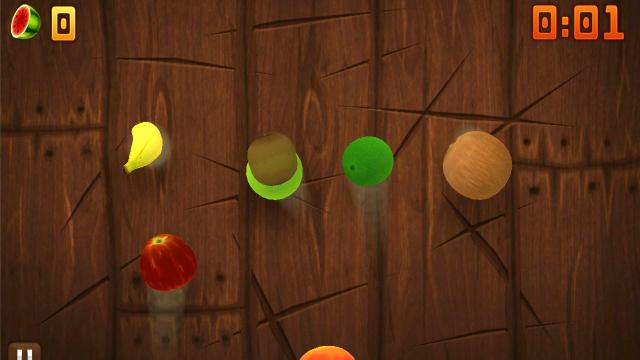fruit: (440, 129, 514, 201), (140, 232, 198, 292), (246, 129, 298, 185), (342, 136, 394, 188), (120, 120, 168, 176), (246, 153, 304, 199), (299, 345, 356, 359)
ignore: (9, 3, 43, 41)
